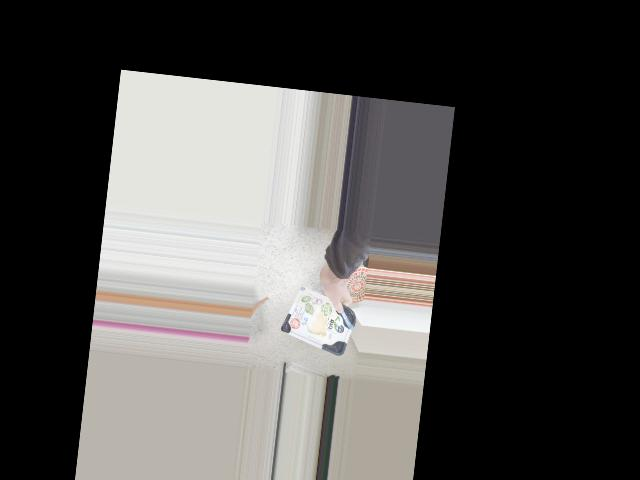cheese: (278, 286, 359, 358)
